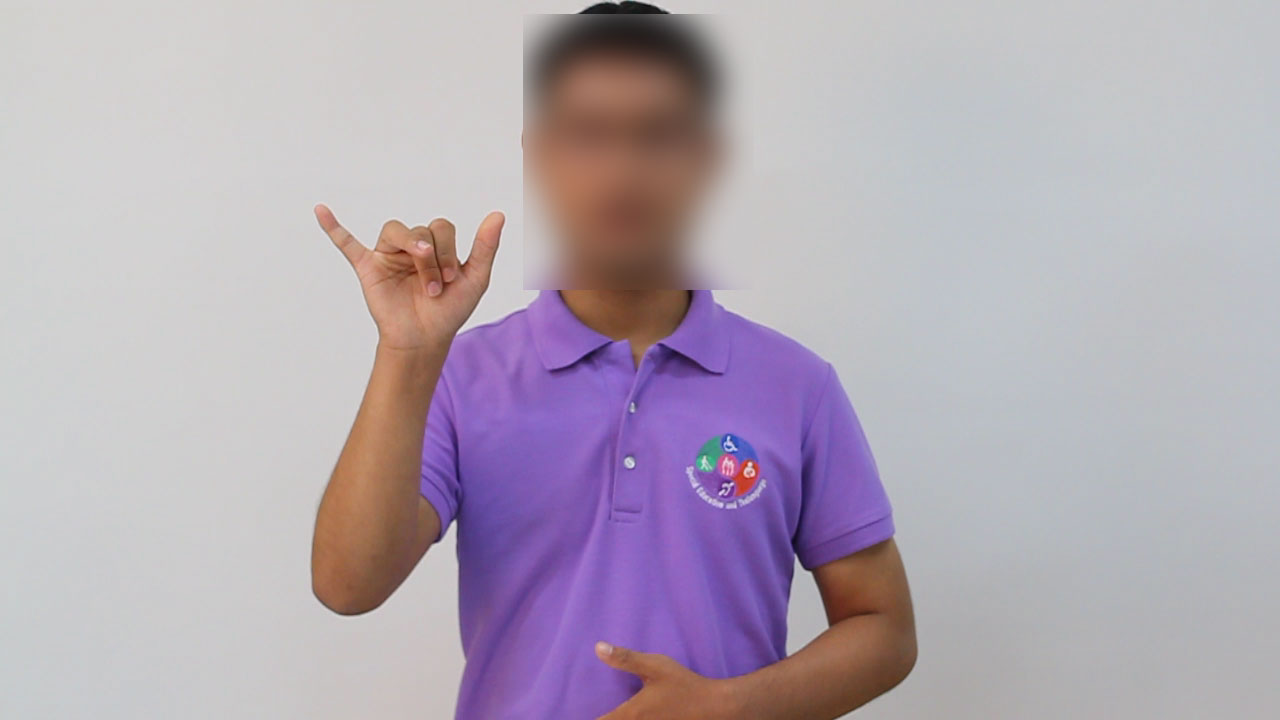yor: (300, 194, 519, 355)
